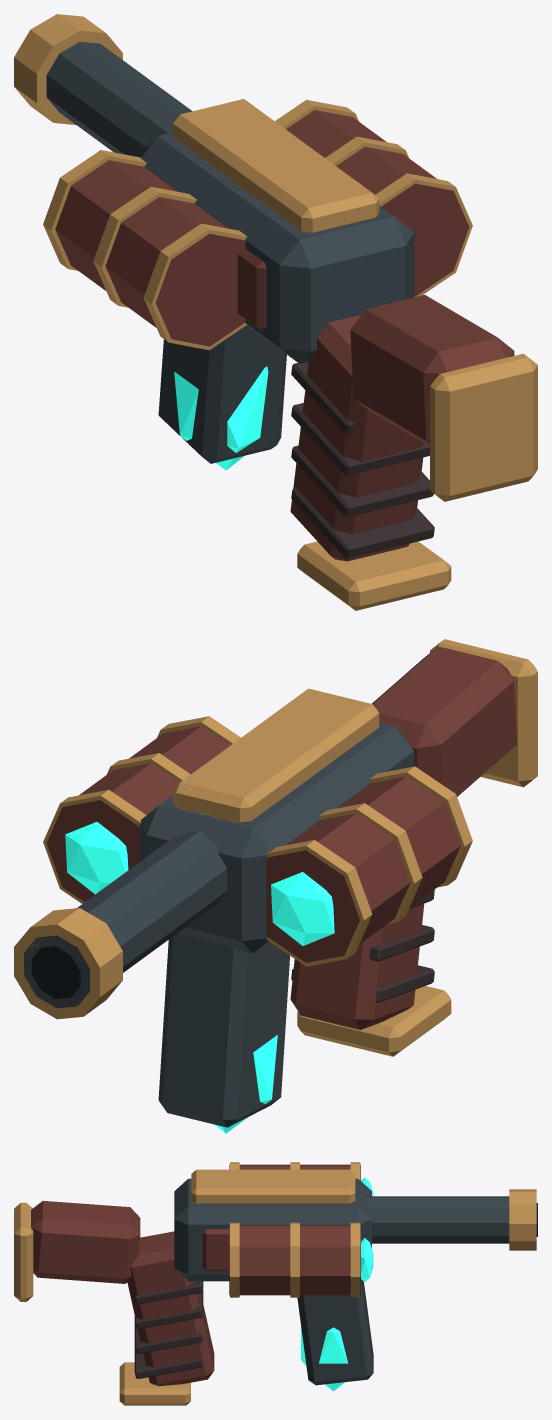
The model's file is 03_mothspindle.glb.
The picture shows the model from 3 angles, top to bottom: view 1: azimuth 30°, elevation 25°; view 2: azimuth 150°, elevation 25°; view 3: azimuth 270°, elevation 25°; orthographic projection. The views are drawn at different scales.
Visible parts, largest first — view 1: Receiver | forged iron.001, Feed | side spindle, Receiver | raised spine.001, Stock | brass butt, Grip | wrapped heartwood.002, Stock | wood, Magazine | hanging crystal, Feed | side spindle.001, Barrel | iron.001, Grip | pommel.002, Muzzle | brass ferrule.001, Magazine | glass core (+11 smaller); view 2: Magazine | hanging crystal, Feed | side spindle, Receiver | forged iron.001, Stock | wood, Receiver | raised spine.001, Barrel | iron.001, Feed | side spindle.001, Grip | wrapped heartwood.002, Muzzle | brass ferrule.001, Grip | pommel.002, Stock | brass butt, Feed | witchglass end (+11 smaller); view 3: Stock | wood, Feed | side spindle.001, Receiver | forged iron.001, Grip | wrapped heartwood.002, Barrel | iron.001, Receiver | raised spine.001, Magazine | hanging crystal, Grip | pommel.002, Stock | brass butt, Muzzle | brass ferrule.001, Receiver | lacquer sideplate.003, Magazine | glass core (+9 smaller).
Part boxes in pixels (x1,y1,x2,y2): Receiver | forged iron.001: (140,132,414,363); Feed | side spindle: (55,160,245,346); Receiver | raised spine.001: (173,99,379,233); Stock | brass butt: (430,353,537,501); Grip | wrapped heartwood.002: (290,315,423,561); Stock | wood: (350,295,514,446); Magazine | hanging crystal: (158,325,286,463); Feed | side spindle.001: (286,110,469,296); Barrel | iron.001: (46,41,192,157); Grip | pommel.002: (297,541,451,610); Muzzle | brass ferrule.001: (14,14,122,124); Magazine | glass core: (174,366,268,470); Magazine | hanging crystal: (158,933,289,1127); Feed | side spindle: (266,776,460,962); Receiver | forged iron.001: (139,722,414,953); Stock | wood: (372,646,517,796); Receiver | raised spine.001: (173,688,379,823); Barrel | iron.001: (24,830,226,1008); Feed | side spindle.001: (46,726,229,901); Grip | wrapped heartwood.002: (290,903,424,1029); Muzzle | brass ferrule.001: (14,908,122,1019); Grip | pommel.002: (297,986,451,1056); Stock | brass butt: (430,639,537,787); Feed | witchglass end: (271,872,334,945); Stock | wood: (31,1200,140,1283); Feed | side spindle.001: (229,1225,360,1295); Receiver | forged iron.001: (174,1178,371,1281); Grip | wrapped heartwood.002: (127,1231,214,1385); Barrel | iron.001: (364,1196,509,1243); Receiver | raised spine.001: (191,1169,355,1203); Magazine | hanging crystal: (297,1279,373,1385); Grip | pommel.002: (119,1362,190,1405); Stock | brass butt: (14,1202,33,1301); Muzzle | brass ferrule.001: (509,1189,536,1250); Receiver | lacquer sideplate.003: (202,1229,229,1271); Magazine | glass core: (301,1326,348,1391).
Size of the model in its own units: 0.406 by 0.43 by 0.955.
